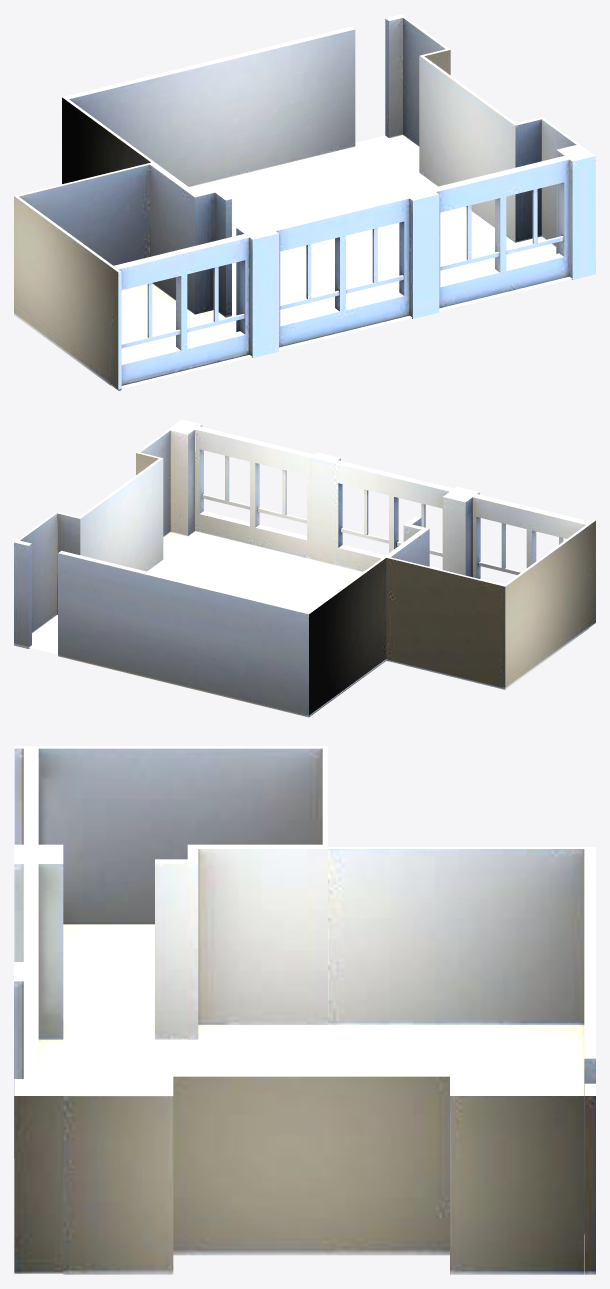
3 views of the same model, one above another, from view 1: azimuth 30°, elevation 25°; view 2: azimuth 150°, elevation 25°; view 3: azimuth 270°, elevation 25° (orthographic). The views are drawn at different scales.
Parts seen in each view (by area): view 1: hb_2floor_room07 (1)_0; view 2: hb_2floor_room07 (1)_0; view 3: hb_2floor_room07 (1)_0.
Boxes of the visible parts, bbox=[...] form: hb_2floor_room07 (1)_0: bbox=[14, 14, 595, 390]; hb_2floor_room07 (1)_0: bbox=[14, 419, 595, 717]; hb_2floor_room07 (1)_0: bbox=[14, 746, 595, 1274].
Size of the model in its own units: 1.36 by 0.3248 by 0.9594.
1 material, 1 textured.
